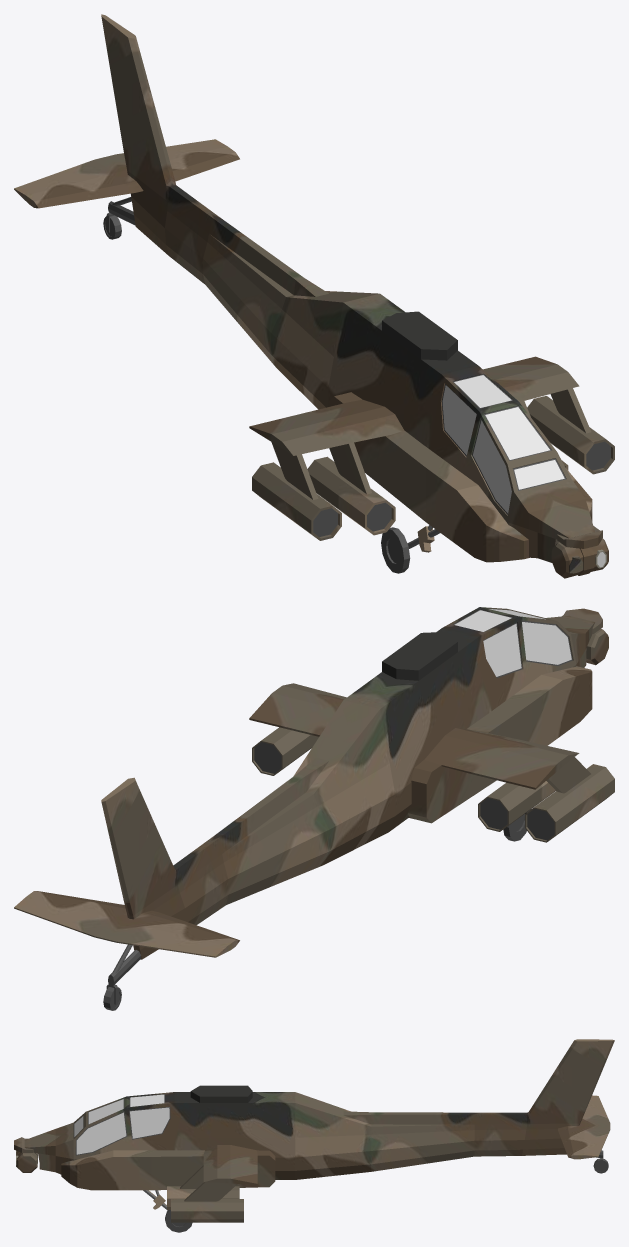
File: ApacheLowPoly.fbx
3 renders of one model, top to bottom at view 1: azimuth 30°, elevation 25°; view 2: azimuth 150°, elevation 25°; view 3: azimuth 270°, elevation 25°, orthographic. The views are drawn at different scales.
Parts seen in each view (by area): view 1: Cube, Cube.001, Cube.002, Circle.002; view 2: Cube, Cube.001, Circle.002, Cube.002; view 3: Cube, Cube.001, Cube.002.
Boxes of the visible parts, x1=… form: Cube: x1=14, y1=14, x2=614, y2=562; Cube.001: x1=329, y1=392, x2=592, y2=573; Cube.002: x1=551, y1=539, x2=608, y2=578; Circle.002: x1=103, y1=197, x2=135, y2=239; Cube: x1=14, y1=607, x2=614, y2=959; Cube.001: x1=408, y1=666, x2=592, y2=841; Circle.002: x1=103, y1=944, x2=140, y2=1010; Cube.002: x1=586, y1=629, x2=608, y2=665; Cube: x1=24, y1=1039, x2=614, y2=1222; Cube.001: x1=61, y1=1150, x2=275, y2=1232; Cube.002: x1=16, y1=1151, x2=37, y2=1172.
Bounding box in the file's own units: 107 × 94.7 × 298.
